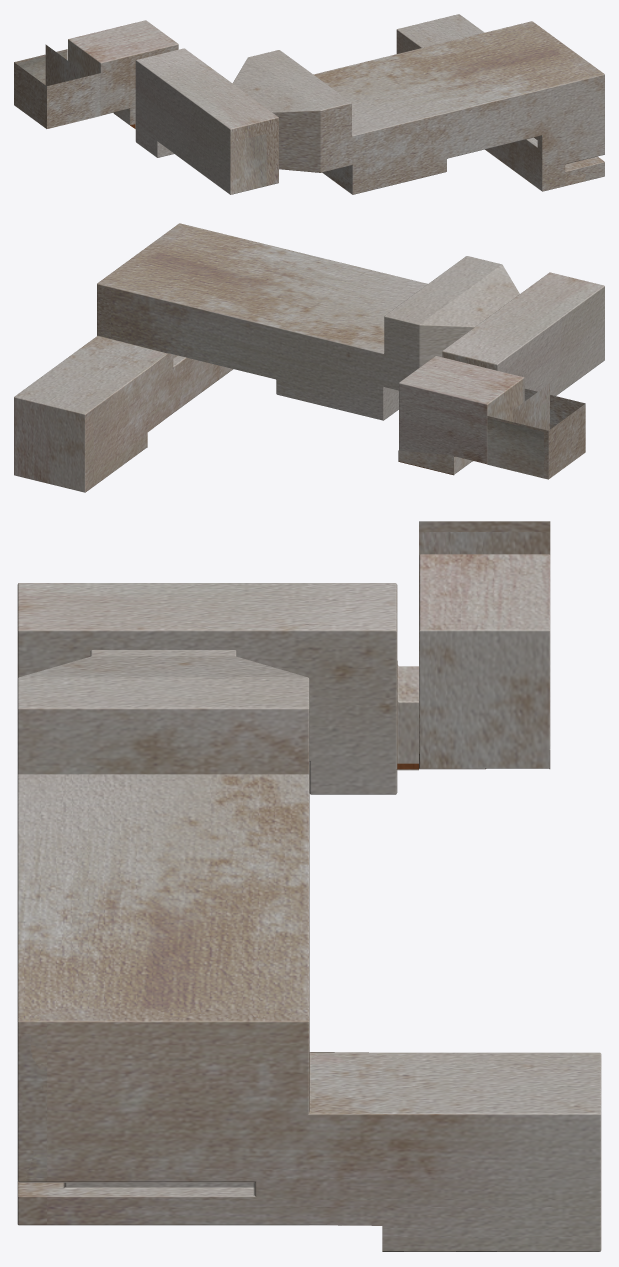
Rendered from DemoLevel.obj.
3 views of the same model, one above another, from view 1: azimuth 30°, elevation 25°; view 2: azimuth 150°, elevation 25°; view 3: azimuth 270°, elevation 25° (orthographic). The views are drawn at different scales.
Parts seen in each view (by area): view 1: Cube.004_Cube.004, Cube.006_Cube.007, Cube.003_Cube.003, Cube.005_Cube.006, Cube_Cube, Cube.001_Cube.001, Cube.002_Cube.002; view 2: Cube.004_Cube.004, Cube.002_Cube.002, Cube.003_Cube.003, Cube.006_Cube.007, Cube_Cube, Cube.005_Cube.006, Cube.001_Cube.001; view 3: Cube.003_Cube.003, Cube.004_Cube.004, Cube.002_Cube.002, Cube.006_Cube.007, Cube.005_Cube.006, Cube_Cube, Cube.001_Cube.001.
Boxes of the visible parts, x1,y1,x2,y2 form: Cube.004_Cube.004: (313, 36, 541, 194); Cube.006_Cube.007: (130, 48, 278, 194); Cube.003_Cube.003: (470, 21, 604, 191); Cube.005_Cube.006: (232, 50, 352, 172); Cube_Cube: (45, 20, 178, 125); Cube.001_Cube.001: (14, 49, 100, 128); Cube.002_Cube.002: (396, 14, 484, 53); Cube.004_Cube.004: (168, 240, 427, 420); Cube.002_Cube.002: (14, 351, 147, 492); Cube.003_Cube.003: (76, 223, 250, 447); Cube.006_Cube.007: (442, 272, 604, 395); Cube_Cube: (398, 356, 549, 475); Cube.005_Cube.006: (383, 256, 519, 390); Cube.001_Cube.001: (487, 388, 585, 479); Cube.003_Cube.003: (17, 959, 382, 1225); Cube.004_Cube.004: (17, 774, 309, 960); Cube.002_Cube.002: (382, 1052, 601, 1251); Cube.006_Cube.007: (17, 583, 418, 794); Cube.005_Cube.006: (17, 650, 309, 775); Cube_Cube: (419, 532, 550, 769); Cube.001_Cube.001: (419, 521, 550, 531).
Bounding box in the file's own units: 14.49 × 4.6 × 8.
